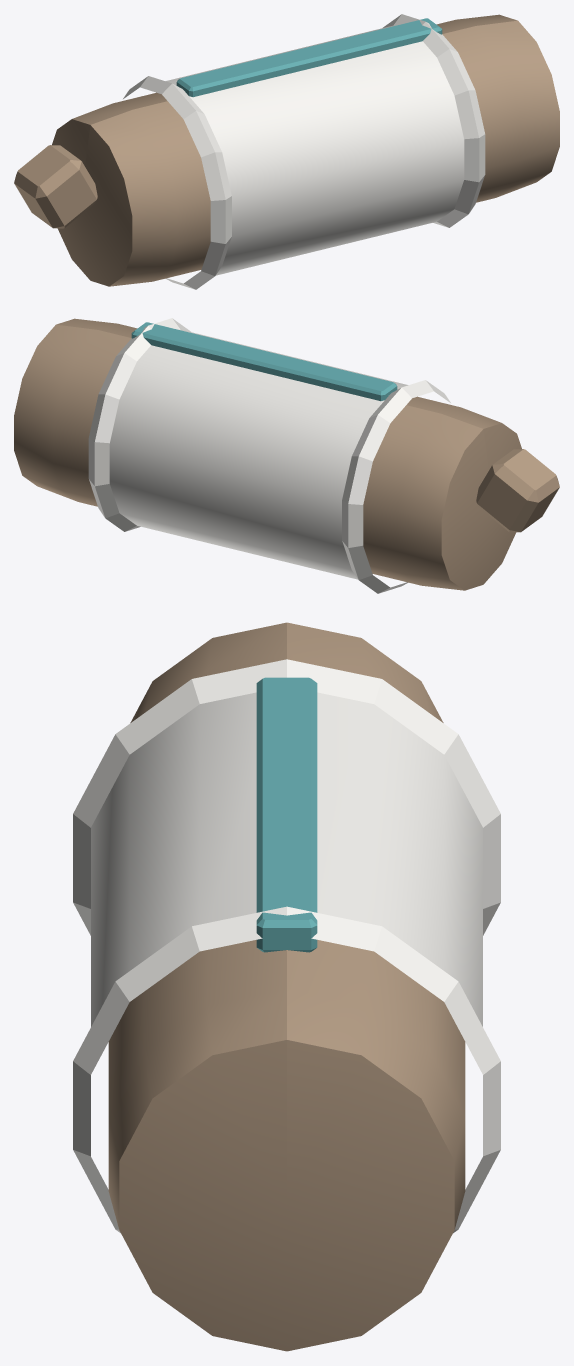
The model's file is fast-food-and-drive-thru-wrap-sleeve-252e200b__16163.glb.
The picture shows the model from 3 angles, top to bottom: view 1: azimuth 30°, elevation 25°; view 2: azimuth 150°, elevation 25°; view 3: azimuth 270°, elevation 25°; orthographic projection. The views are drawn at different scales.
Parts seen in each view (by area): view 1: wrap-sleeve; view 2: wrap-sleeve; view 3: wrap-sleeve.
Part boxes in pixels (x1=…): wrap-sleeve: x1=14, y1=14, x2=559, y2=289; wrap-sleeve: x1=14, y1=318, x2=559, y2=593; wrap-sleeve: x1=73, y1=622, x2=500, y2=1351.
Bounding box in the file's own units: 0.1909 × 0.072 × 0.0702.
